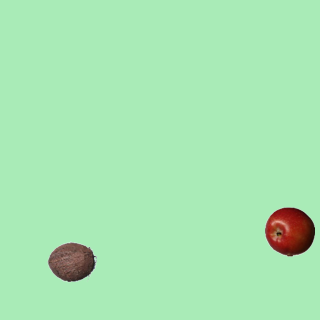Apple Braeburn: (264, 206, 314, 256)
Cocos: (46, 236, 96, 286)
